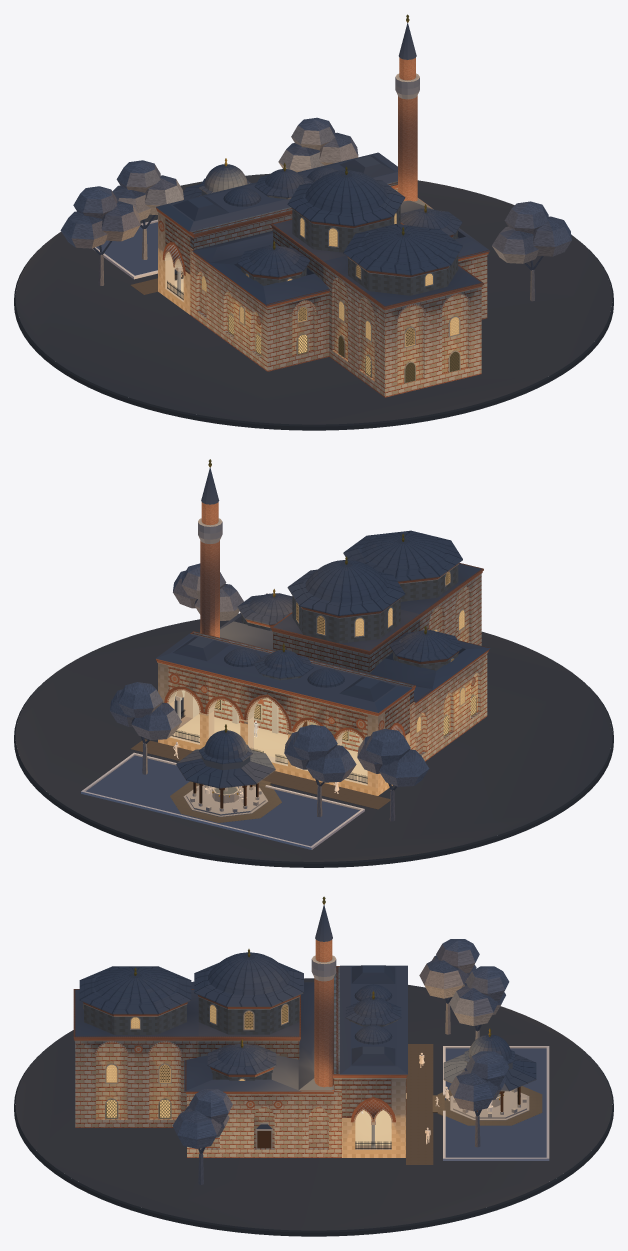
Rendered from orhan-bey-camii_v07_night_sunum.glb.
3 renders of one model, top to bottom at view 1: azimuth 30°, elevation 25°; view 2: azimuth 150°, elevation 25°; view 3: azimuth 270°, elevation 25°, orthographic.
Parts seen in each view (by area): view 1: Zemin_Kaide, Cami_Govde, Cami_Mihrap, Kubbe_Mihrap, Kubbe_Ana, Kubbe_SonCemaat, Cevre_Agac_01, Cevre_Agac_04, Minare_1, Cevre_Agac_02, Cevre_Agac_03, Cevre_Doseme (+5 smaller); view 2: Zemin_Kaide, Cami_Govde, Cevre_Doseme, Cami_SonCemaat, Kubbe_SonCemaat, Kubbe_Ana, Sadirvan, Kubbe_Mihrap, Cami_Mihrap, Minare_1, Cevre_Agac_03, Cevre_Agac_04 (+6 smaller); view 3: Zemin_Kaide, Cami_Govde, Cevre_Doseme, Cami_Mihrap, Kubbe_SonCemaat, Kubbe_Ana, Kubbe_Mihrap, Cami_SonCemaat, Sadirvan, Minare_1, Cevre_Agac_02, Cevre_Agac_03 (+5 smaller).
Boxes of the visible parts, <box> form: Zemin_Kaide: <box>14,173,613,430</box>; Cami_Govde: <box>156,163,490,383</box>; Cami_Mihrap: <box>323,255,481,397</box>; Kubbe_Mihrap: <box>343,224,462,295</box>; Kubbe_Ana: <box>287,170,405,252</box>; Kubbe_SonCemaat: <box>156,152,397,231</box>; Cevre_Agac_01: <box>492,201,571,263</box>; Cevre_Agac_04: <box>60,186,140,248</box>; Minare_1: <box>395,14,419,201</box>; Cevre_Agac_02: <box>278,117,358,172</box>; Cevre_Agac_03: <box>112,160,183,220</box>; Cevre_Doseme: <box>92,219,183,294</box>; Zemin_Kaide: <box>14,613,613,867</box>; Cami_Govde: <box>156,533,490,779</box>; Cevre_Doseme: <box>81,739,390,849</box>; Cami_SonCemaat: <box>158,663,409,795</box>; Kubbe_SonCemaat: <box>156,633,412,712</box>; Kubbe_Ana: <box>287,560,405,643</box>; Sadirvan: <box>176,724,275,816</box>; Kubbe_Mihrap: <box>343,530,462,601</box>; Cami_Mihrap: <box>400,563,481,645</box>; Minare_1: <box>198,459,222,637</box>; Cevre_Agac_03: <box>284,724,356,782</box>; Cevre_Agac_04: <box>357,729,429,786</box>; Zemin_Kaide: <box>14,978,613,1236</box>; Cami_Govde: <box>73,949,407,1157</box>; Cevre_Doseme: <box>406,1044,549,1164</box>; Cami_Mihrap: <box>75,989,198,1127</box>; Kubbe_SonCemaat: <box>340,965,407,1074</box>; Kubbe_Ana: <box>194,952,303,1034</box>; Kubbe_Mihrap: <box>79,966,191,1034</box>; Cami_SonCemaat: <box>342,1078,405,1157</box>; Sadirvan: <box>443,1028,536,1120</box>; Minare_1: <box>311,896,336,1087</box>; Cevre_Agac_02: <box>449,1051,509,1111</box>; Cevre_Agac_03: <box>449,966,509,1025</box>.
Size of the model in its own units: 60.76 by 29.25 by 60.76.
29 materials, 17 textured.
